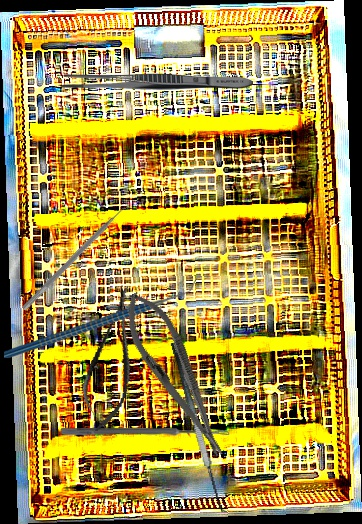Chopper: (4, 276, 198, 358)
Dressing Forceps: (62, 73, 253, 91)
Micro Scissor: (74, 281, 150, 436)
Needle Holder: (112, 283, 239, 467)
Spatula Surgical: (21, 200, 133, 316), (168, 337, 237, 516)
Surgical Spoon: (61, 428, 230, 436)
